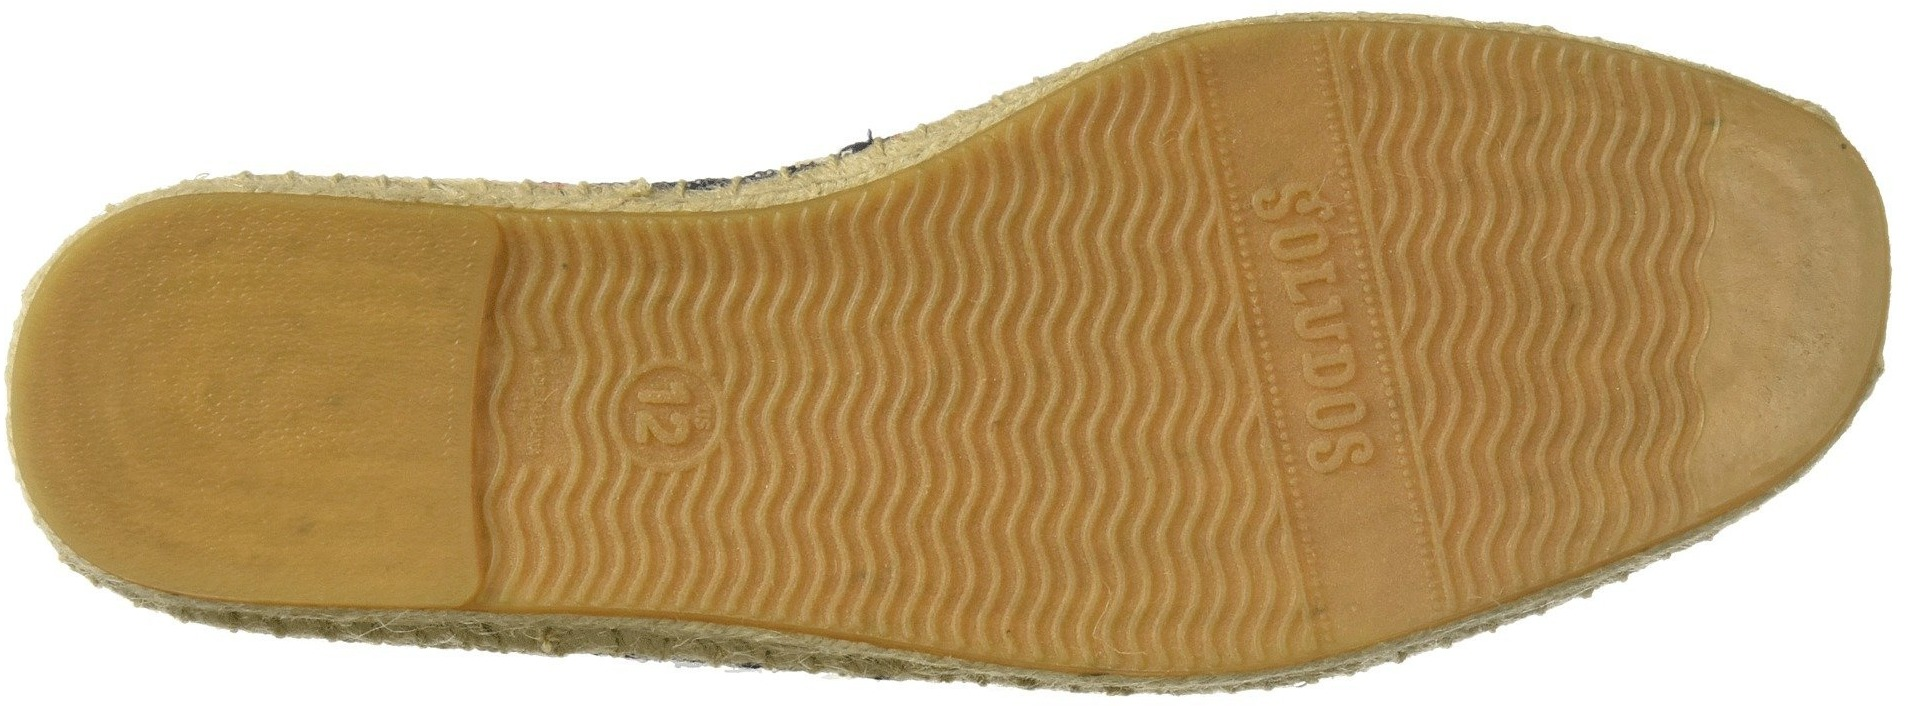chevron: (739, 232, 1100, 560), (1388, 57, 1684, 324), (1477, 332, 1674, 520), (1122, 446, 1276, 609)
circle: (597, 346, 725, 487)
other: (60, 271, 466, 543), (1715, 190, 1871, 346)
text: (1145, 146, 1493, 516), (1244, 174, 1349, 270), (1272, 298, 1374, 393), (1289, 383, 1387, 476), (622, 376, 709, 456)
